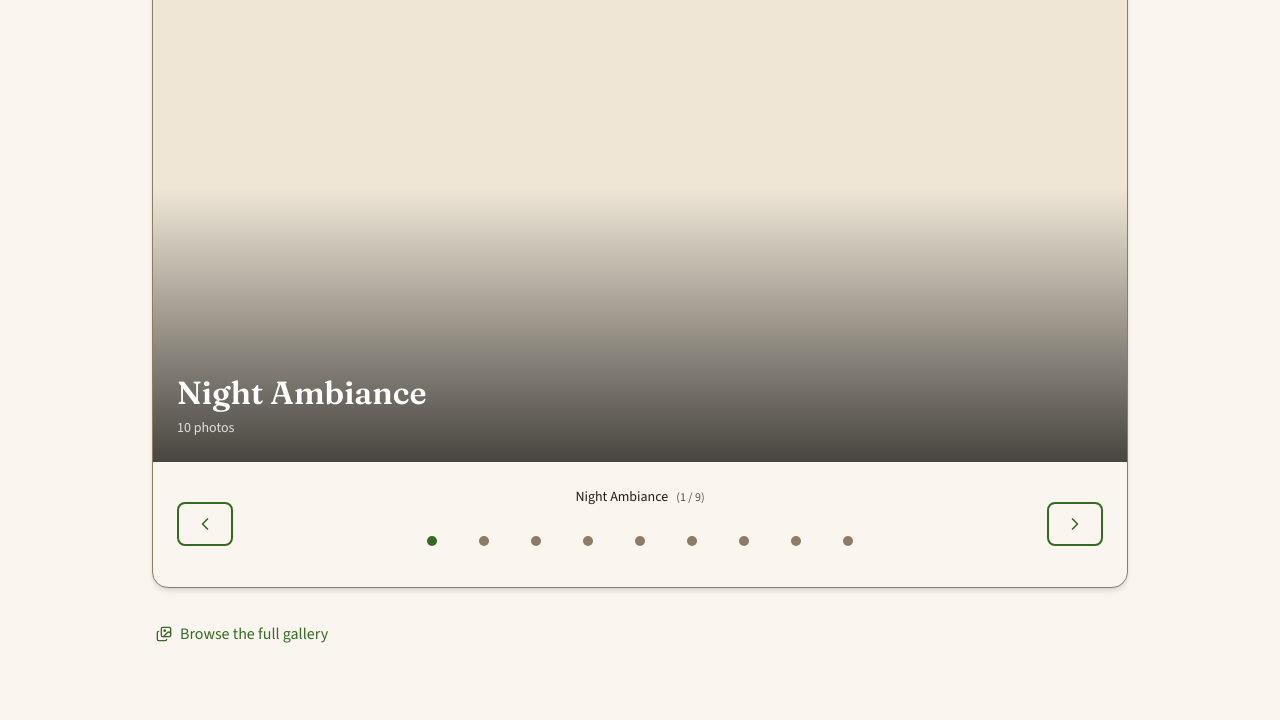
Test: VirtualTour › goes back to the previous category on Previous click (Req 6.6)
(page scrolled)
Note: Advance to Exteriors first
Click the button named "next category". click: coordinates (1075, 524)
box: top-left (1047, 502), bottom-right (1103, 546)
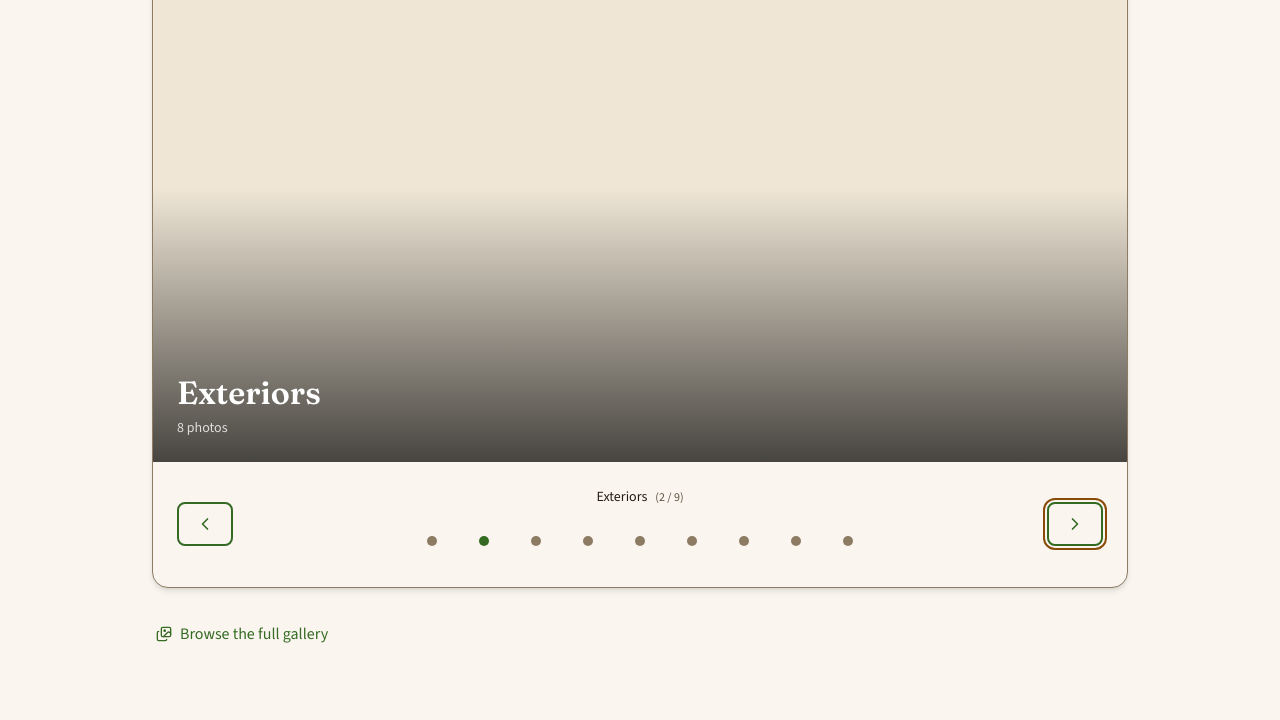
Now the text "Exteriors" is shown, box top-left (177, 373), bottom-right (321, 412)
Note:  Go back
Click the button named "previous category". click: coordinates (205, 524)
box: top-left (177, 502), bottom-right (233, 546)
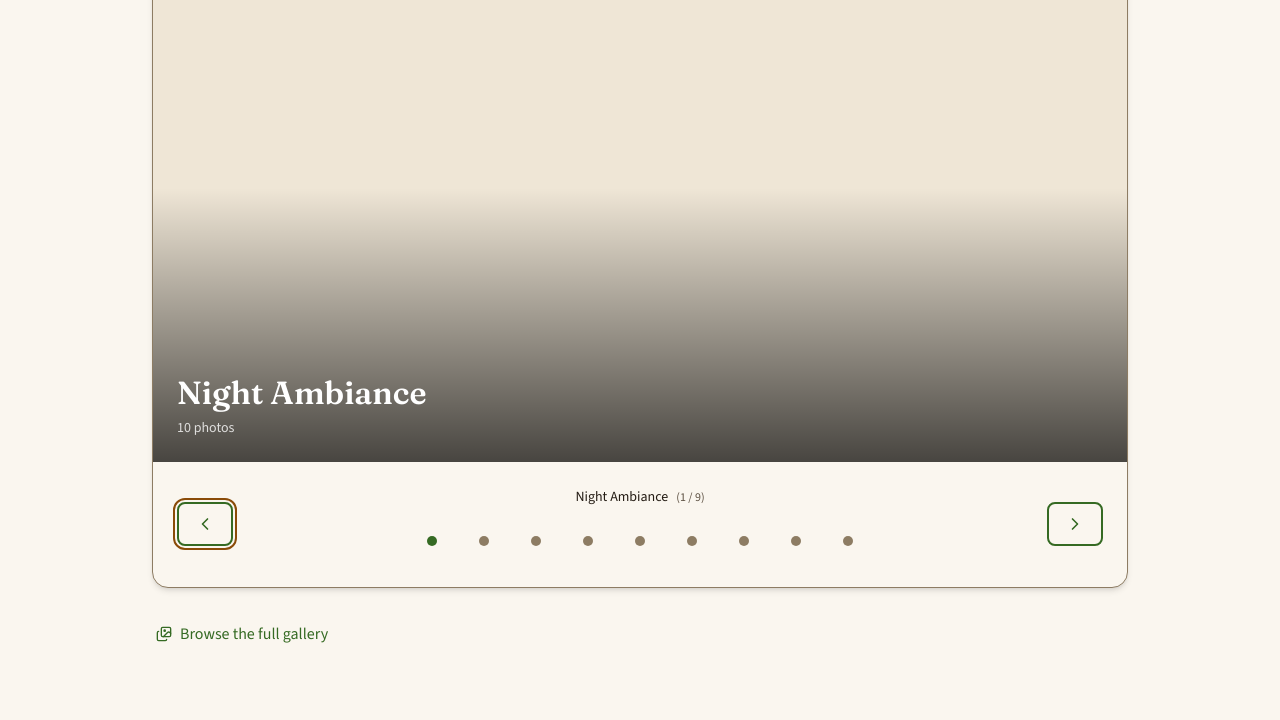
Now the text "Night Ambiance" is shown, box top-left (177, 373), bottom-right (427, 412)
